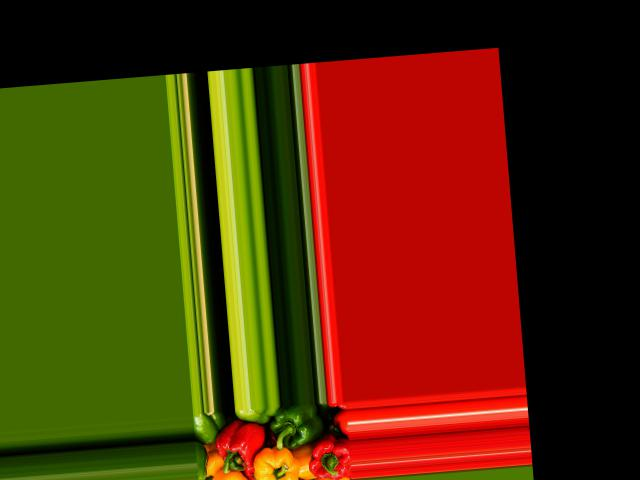bell_pepper: (301, 432, 351, 480)
